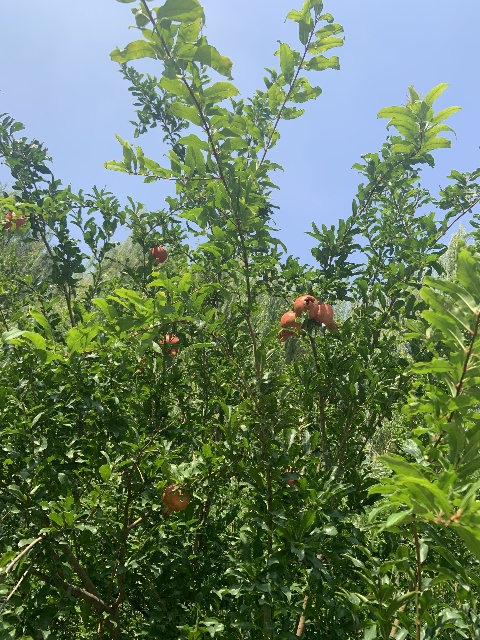flower: (160, 333, 179, 356)
ripe: (160, 484, 189, 516), (276, 311, 301, 342), (313, 302, 339, 330), (294, 294, 319, 320), (5, 211, 26, 233), (160, 333, 179, 356), (149, 246, 166, 266), (283, 466, 299, 486)
